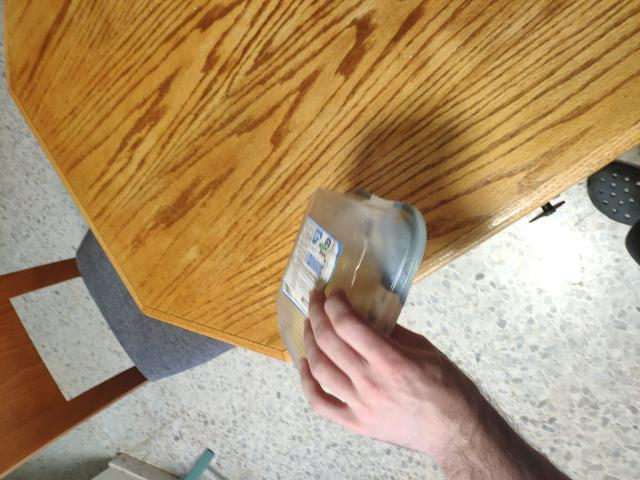cheese: (271, 202, 415, 368)
